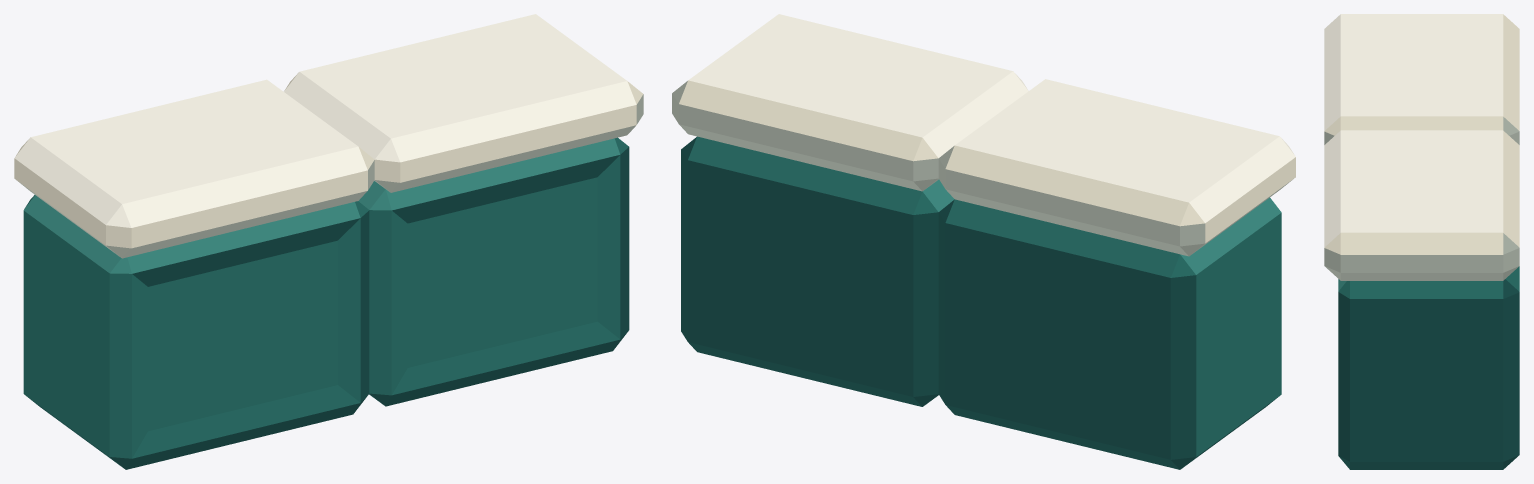
File: Terrain_TopRun2LR.gltf
3 views of the same model, side by side, from view 1: azimuth 30°, elevation 25°; view 2: azimuth 150°, elevation 25°; view 3: azimuth 270°, elevation 25° (orthographic). The views are drawn at different scales.
Visible parts, largest first — view 1: Terrain_TopRun2LR_baked; view 2: Terrain_TopRun2LR_baked; view 3: Terrain_TopRun2LR_baked.
Part boxes in pixels (box(x1,y1,x2,y2)): Terrain_TopRun2LR_baked: box(14, 14, 643, 469); Terrain_TopRun2LR_baked: box(672, 14, 1295, 469); Terrain_TopRun2LR_baked: box(1324, 14, 1519, 469).
Size of the model in its own units: 2.07 by 1 by 0.735.
